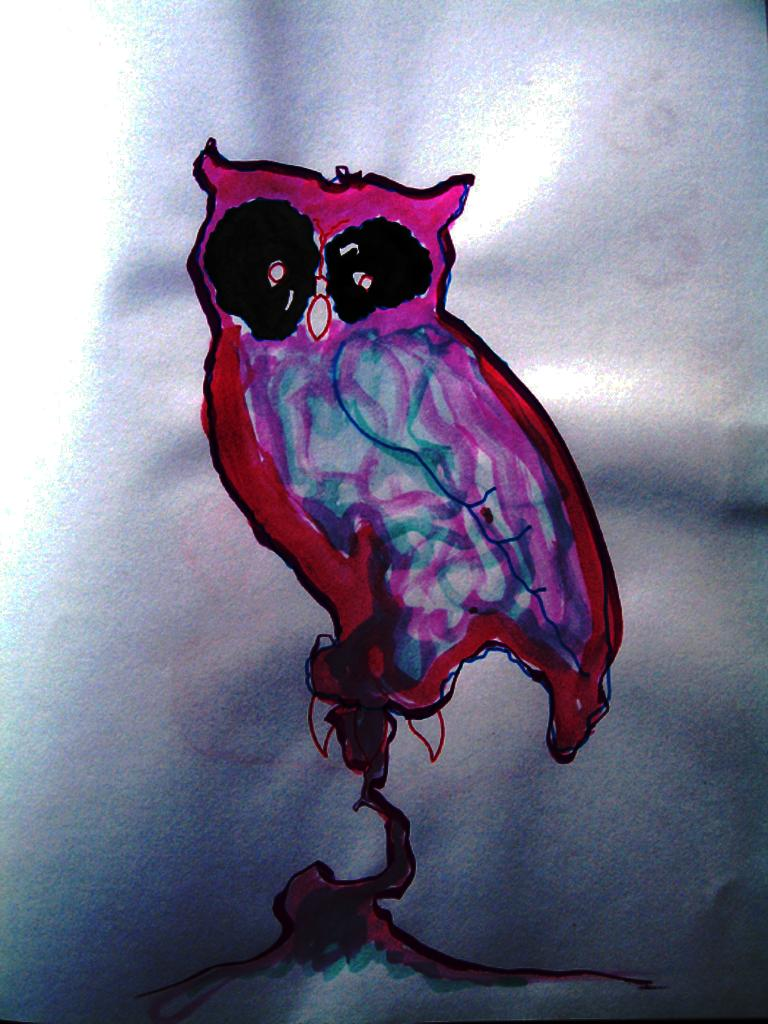Owl: (177, 136, 622, 766)
